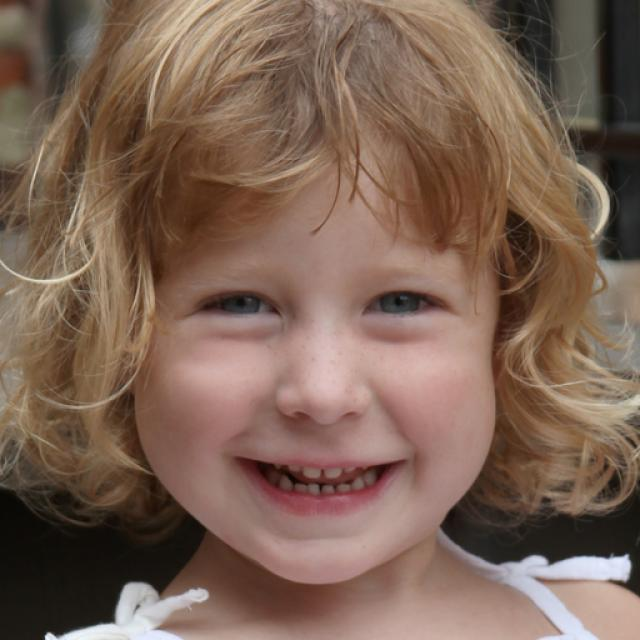happy: (134, 147, 498, 584)
